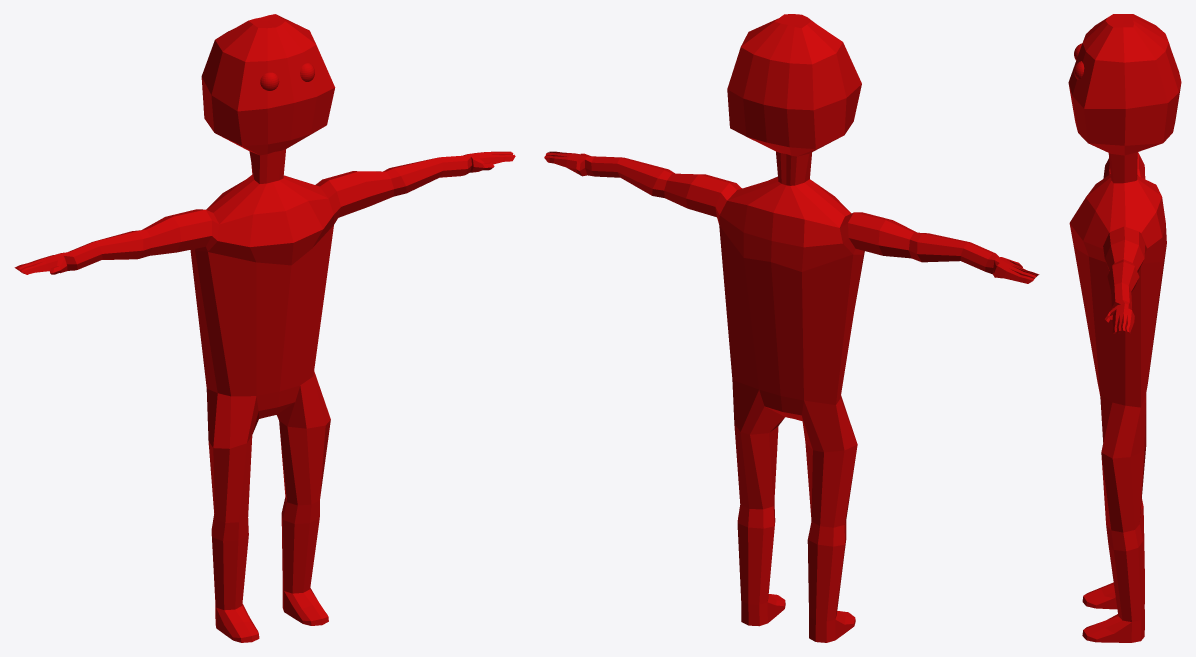
Rendered from Ulises.obj.
The picture shows the model from 3 angles, left to right: view 1: azimuth 30°, elevation 25°; view 2: azimuth 150°, elevation 25°; view 3: azimuth 270°, elevation 25°; orthographic projection.
Parts seen in each view (by area): view 1: Cubo.002; view 2: Cubo.002; view 3: Cubo.002.
Part boxes in pixels (box(x1,y1,x2,y2)): Cubo.002: box(14, 14, 515, 642); Cubo.002: box(544, 14, 1039, 642); Cubo.002: box(1068, 14, 1181, 642).
Bounding box in the file's own units: 1.41 × 1.65 × 0.2813.
